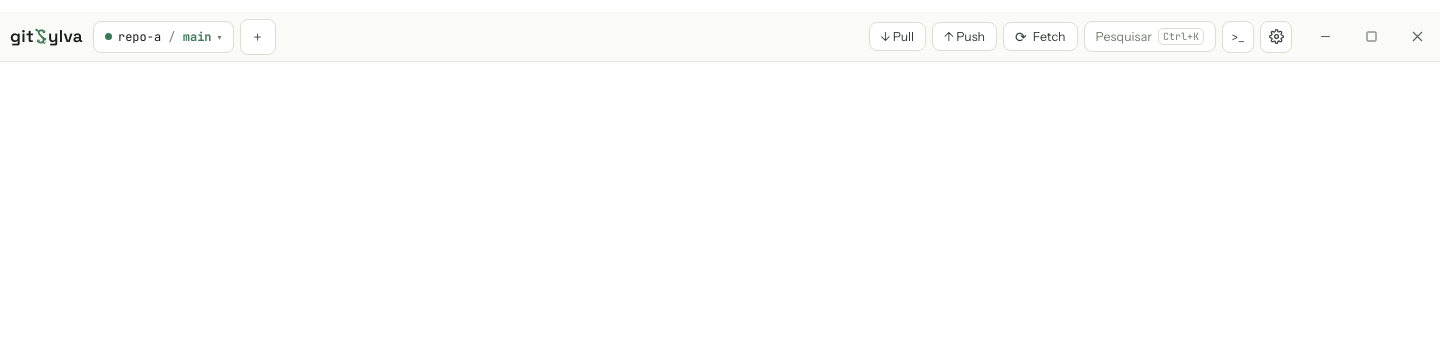
Test: Titlebar repo dropdown — pinned (FIXADOS) › shows a pinned, closed repo under FIXADOS and not under RECENTES
Click the button "repo-a / main ▾": (163, 36) top-left (93, 20), bottom-right (234, 52)
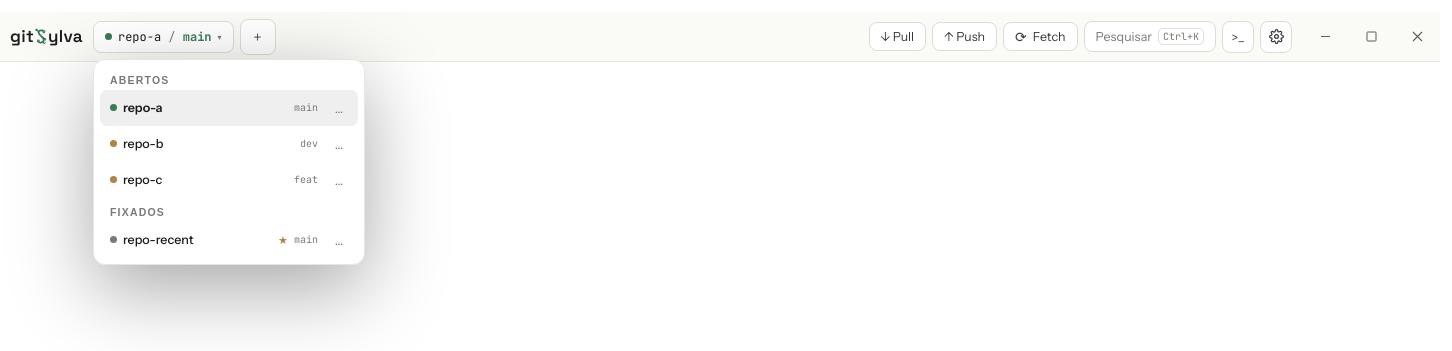
Check: the text "FIXADOS" is shown, box top-left (110, 206), bottom-right (165, 218)
Check: the text "repo-recent" is shown, box top-left (123, 232), bottom-right (194, 247)
